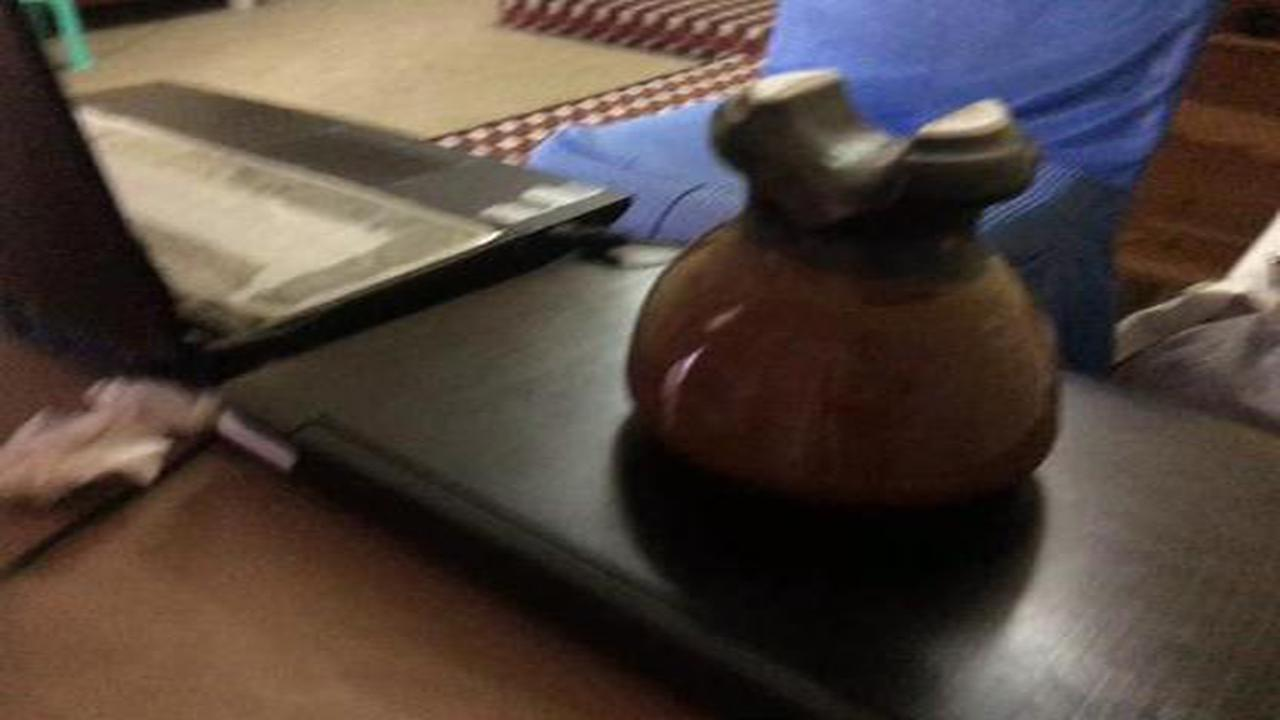insulator_pin: (616, 48, 1074, 535)
